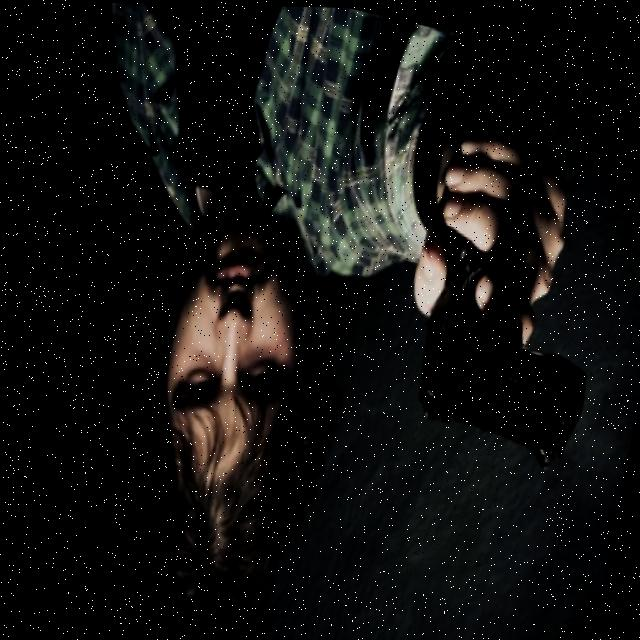pistol: (396, 219, 614, 482)
